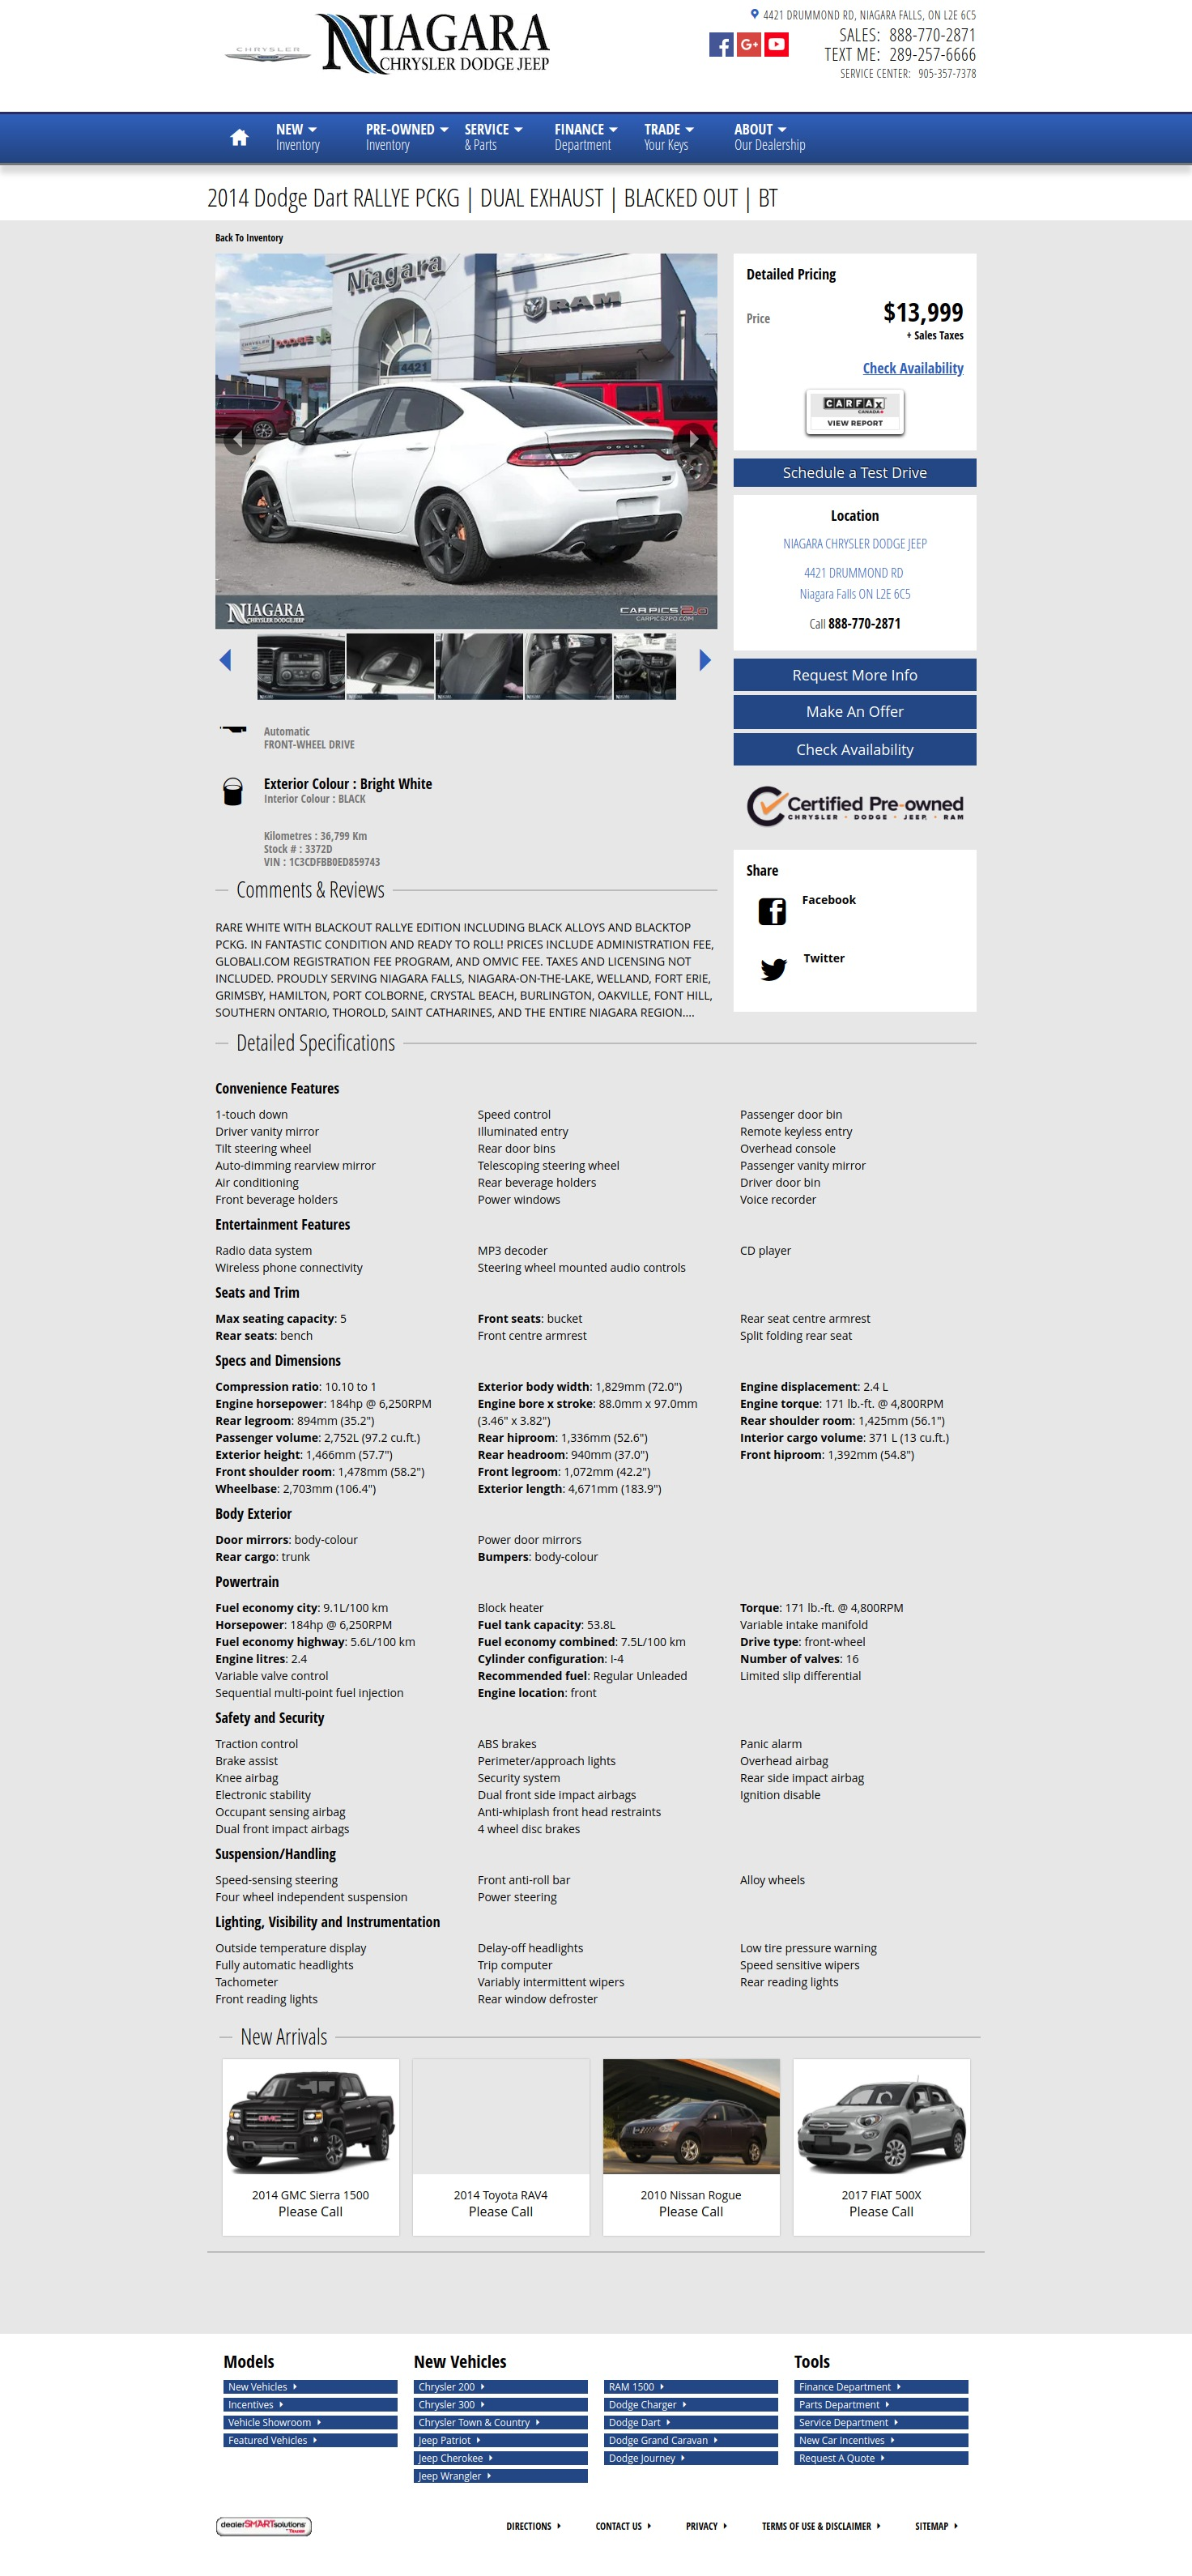car: (698, 647, 714, 674)
